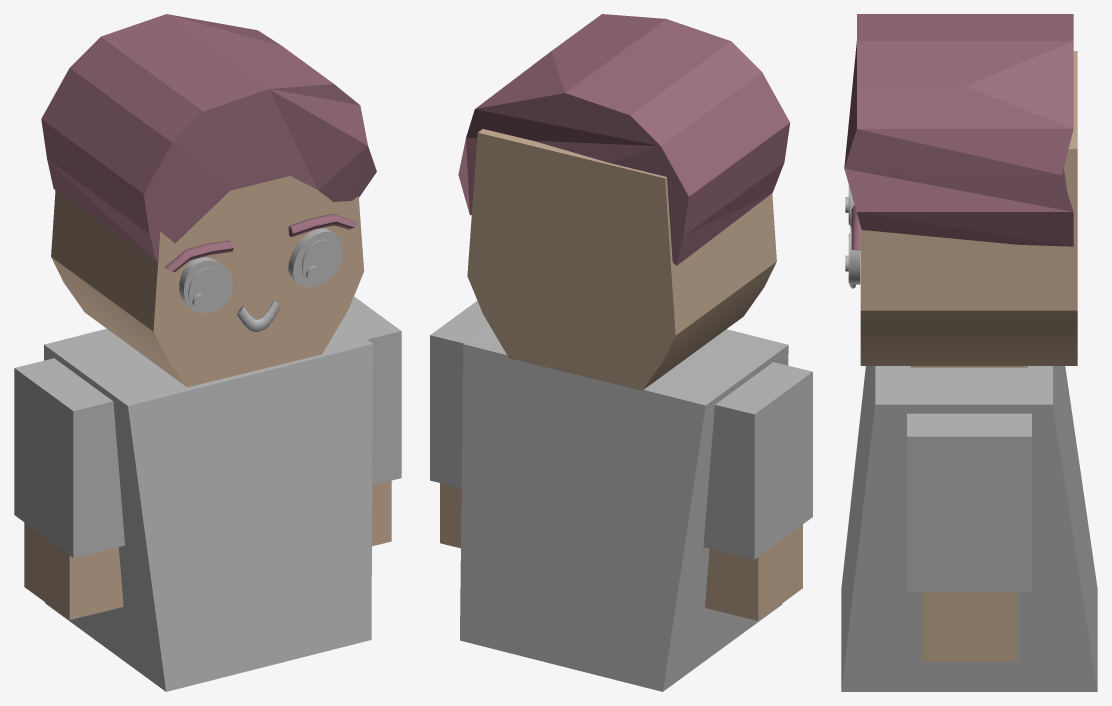
Rendered from Customer2.fbx.
3 renders of one model, left to right at view 1: azimuth 30°, elevation 25°; view 2: azimuth 150°, elevation 25°; view 3: azimuth 270°, elevation 25°, orthographic. The views are drawn at different scales.
Parts seen in each view (by area): view 1: shirt, hairBrows, skin, white, eyes, mouth; view 2: shirt, skin, hairBrows; view 3: shirt, hairBrows, skin, white.
Part boxes in pixels (<box>): shirt: <box>14,296,401,691</box>; hairBrows: <box>41,14,376,271</box>; skin: <box>24,176,391,619</box>; white: <box>179,228,342,313</box>; eyes: <box>188,239,338,312</box>; mouth: <box>237,300,279,332</box>; shirt: <box>430,300,812,691</box>; skin: <box>440,129,802,620</box>; hairBrows: <box>458,14,789,265</box>; shirt: <box>841,366,1097,691</box>; hairBrows: <box>844,14,1073,250</box>; skin: <box>860,51,1077,661</box>; white: <box>845,190,860,284</box>.
Bounding box in the file's own units: 3.12 × 5.19 × 1.99.
